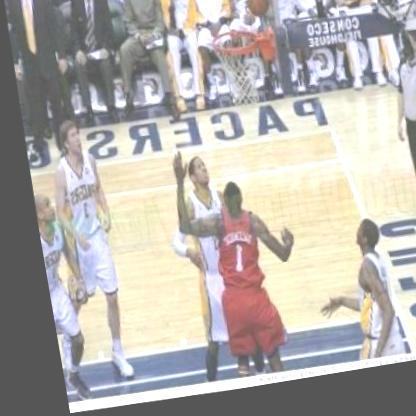basketball: (235, 0, 273, 29)
